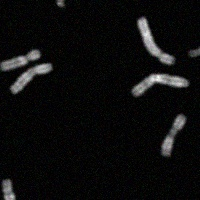chromosome: (138, 18, 175, 63), (132, 73, 189, 98), (10, 63, 51, 92), (161, 114, 186, 155), (0, 48, 39, 71), (0, 179, 16, 200), (191, 43, 200, 56), (56, 0, 68, 7)
